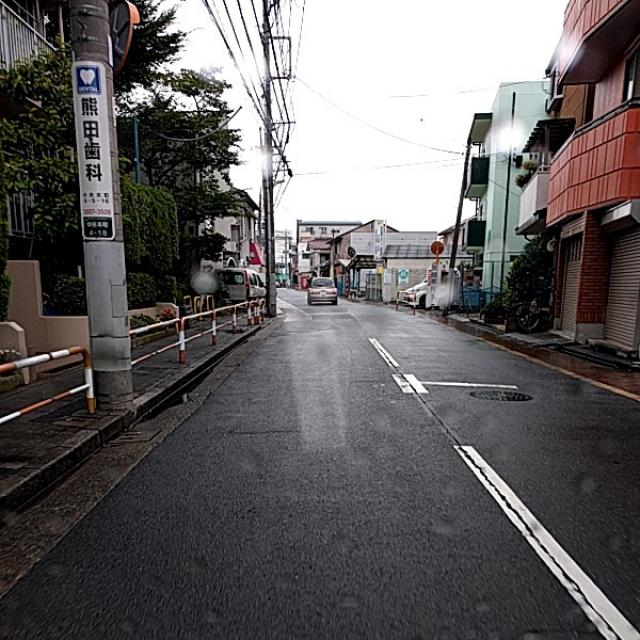pothole: (466, 474, 545, 528)
